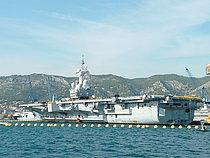MIL_Ship: (18, 60, 204, 126)
